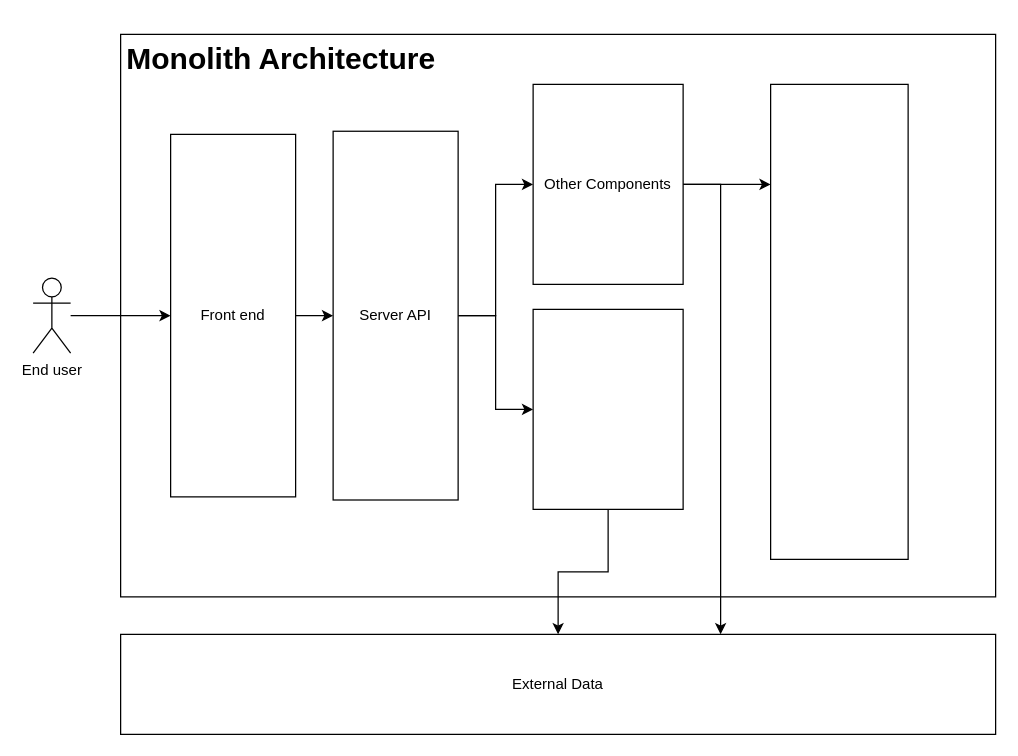
Some shapes in this 1018 by 756 pixel diagram are drawn without their labels. The shapes that lost their labels are listed below. From the top down, each one's box as (x1, y1, x2, y2) in pixels, then its label:
(769, 83, 908, 559): Database
(532, 308, 683, 509): Case Component
